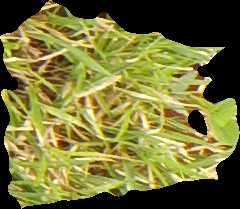grass: (1, 1, 239, 208)
